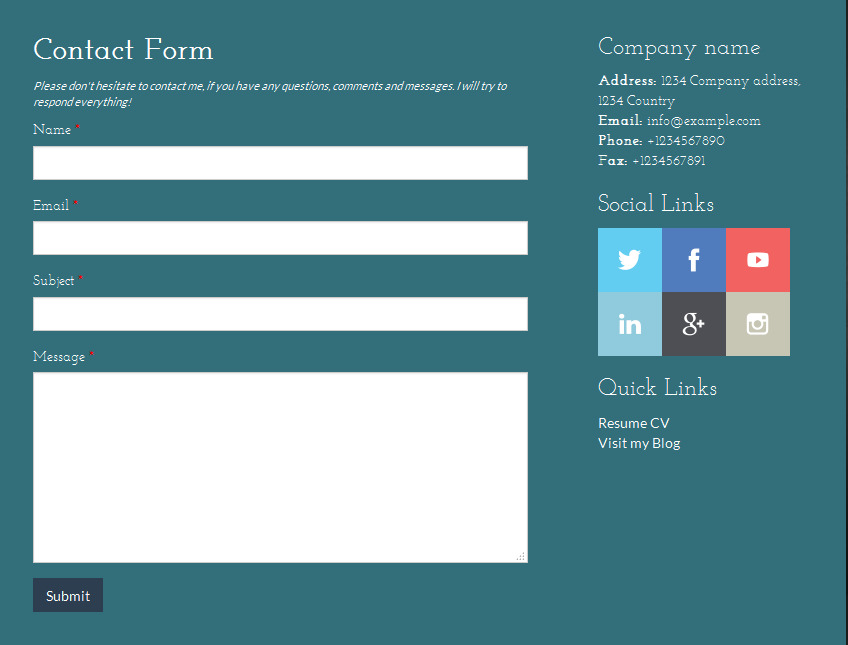_form_: (24, 349, 538, 619), (22, 108, 536, 342)
button: (32, 576, 103, 613)
field: (31, 370, 531, 564), (32, 144, 530, 182), (32, 295, 530, 332), (30, 220, 530, 256)
field_with_label: (30, 347, 533, 567), (30, 121, 532, 182), (31, 272, 531, 333), (30, 199, 531, 258)
